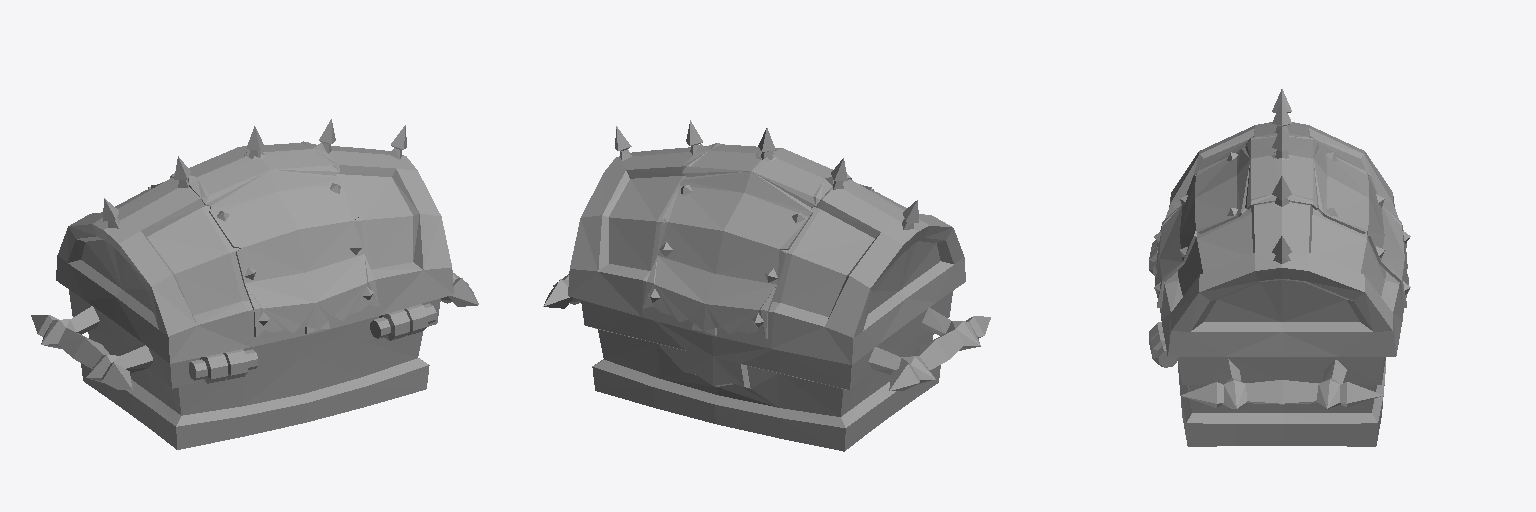
Rendered from chest8.obj.
3 renders of one model, left to right at view 1: azimuth 30°, elevation 25°; view 2: azimuth 150°, elevation 25°; view 3: azimuth 270°, elevation 25°, orthographic.
Parts seen in each view (by area): view 1: chest8; view 2: chest8; view 3: chest8.
Boxes of the visible parts, box(x1,y1,x2,y2) form: chest8: box(31, 119, 478, 449); chest8: box(543, 120, 990, 451); chest8: box(1149, 89, 1410, 446).
Size of the model in its own units: 2.65 by 1.72 by 1.57.